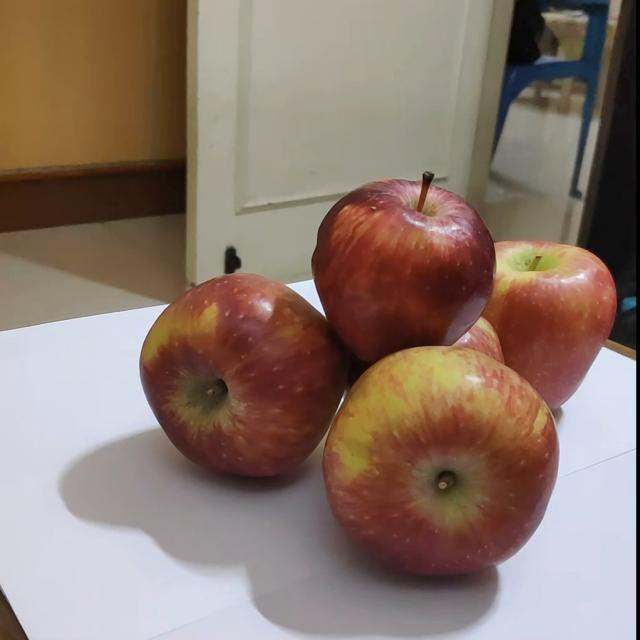apple: (321, 341, 567, 584), (134, 269, 354, 491), (306, 172, 509, 360), (476, 236, 616, 413)
